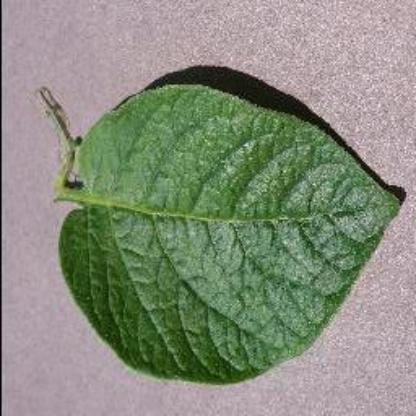Healthy-plant: (37, 78, 401, 387)
